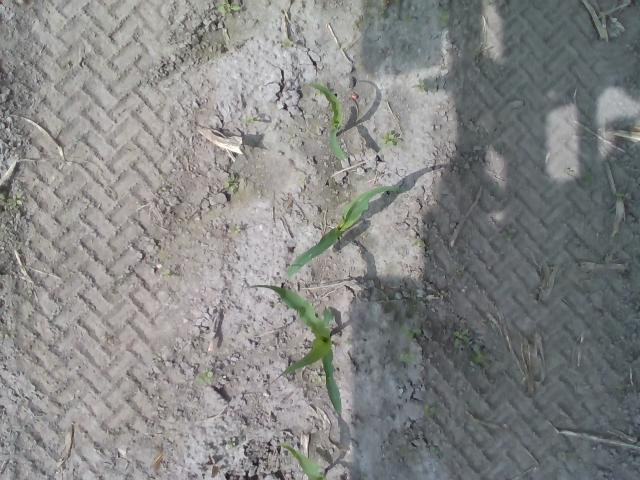Maize: (248, 283, 344, 420), (281, 184, 402, 278), (308, 80, 349, 162), (284, 443, 326, 480)
Weeds: (195, 368, 214, 385), (400, 325, 420, 341), (473, 351, 491, 368), (218, 1, 240, 14), (453, 328, 470, 344), (4, 194, 24, 207), (400, 348, 416, 362), (382, 132, 397, 146), (222, 180, 238, 193), (311, 370, 325, 384), (424, 404, 436, 418), (226, 438, 235, 449), (231, 223, 241, 232)
